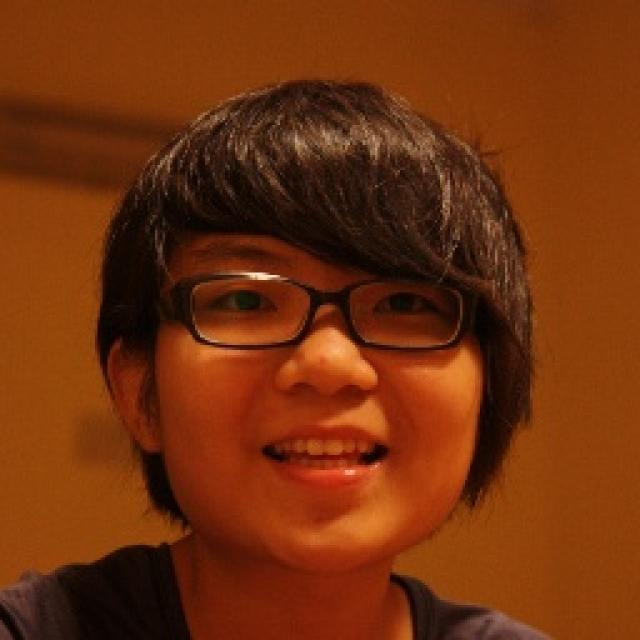earlobe: (127, 418, 160, 453)
eye: (210, 288, 279, 316), (377, 292, 439, 318)
nose: (279, 378, 371, 418)
wholeear: (104, 339, 163, 454)
